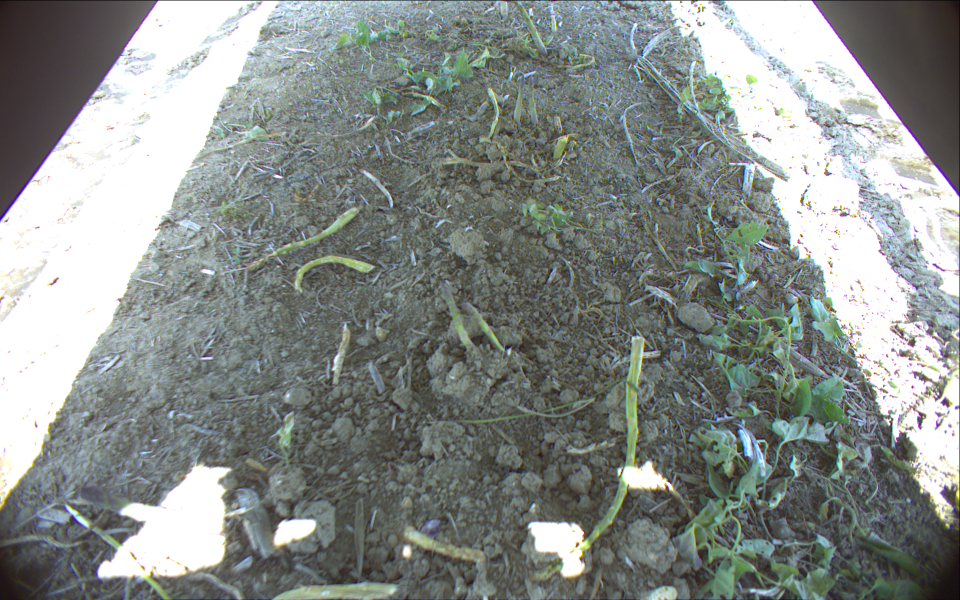aspa: (528, 334, 646, 583), (67, 503, 171, 600), (245, 205, 359, 269), (295, 256, 373, 293), (258, 582, 400, 600), (404, 528, 485, 558), (440, 280, 471, 349), (466, 305, 504, 355), (512, 1, 547, 54), (487, 86, 499, 140), (512, 77, 526, 123), (528, 78, 538, 127)
